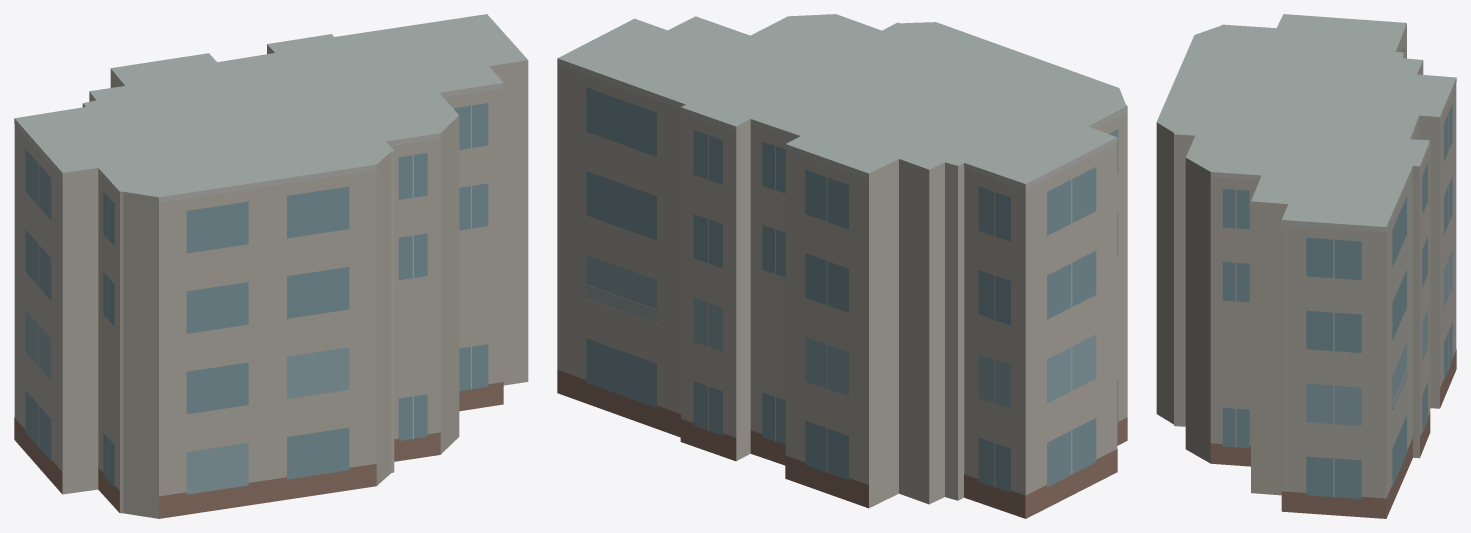
Rendered from survey-upis-32673279.glb.
3 renders of one model, left to right at view 1: azimuth 30°, elevation 25°; view 2: azimuth 150°, elevation 25°; view 3: azimuth 270°, elevation 25°, orthographic. The views are drawn at different scales.
Parts seen in each view (by area): view 1: survey-upis-32673279.tmp; view 2: survey-upis-32673279.tmp; view 3: survey-upis-32673279.tmp.
Boxes of the visible parts, box(x1,y1,x2,y2) form: survey-upis-32673279.tmp: box(14, 14, 528, 518); survey-upis-32673279.tmp: box(557, 14, 1127, 518); survey-upis-32673279.tmp: box(1156, 14, 1456, 518).
Size of the model in its own units: 21.59 by 13.78 by 12.85.
